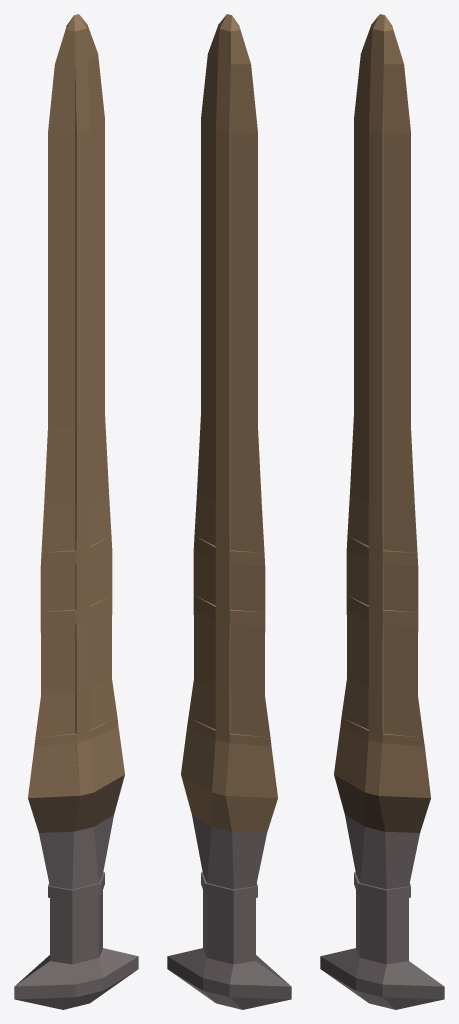
File: SusanooSword_early_v03.fbx
3 views of the same model, side by side, from view 1: azimuth 30°, elevation 25°; view 2: azimuth 150°, elevation 25°; view 3: azimuth 330°, elevation 25° (orthographic).
Visible parts, largest first — view 1: Sword; view 2: Sword; view 3: Sword.
Boxes of the visible parts, box(x1,y1,x2,y2) form: Sword: box(14, 14, 138, 1009); Sword: box(167, 14, 291, 1009); Sword: box(320, 14, 444, 1009).
Bounding box in the file's own units: 0.6126 × 4.67 × 0.2274.
